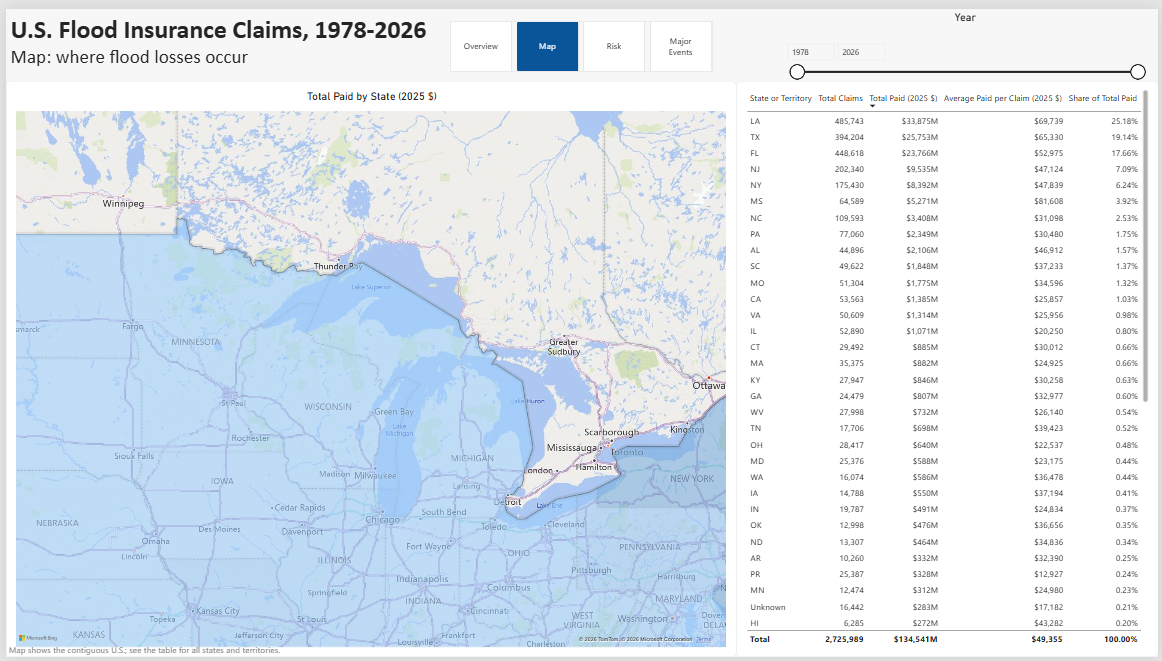

What the dashboard file says about the page in this screenshot:
{"tool":"powerbi","page":{"name":"Map","canvas":[1920,1080],"ordinal":1},"visuals":[{"type":"filledMap","title":"Total Paid by State (2025 $)","fields":{"Category":["v_claims.state"]},"box":[0,120,1217.5,960],"z":0},{"type":"tableEx","fields":{"Values":["v_claims.state","v_claims.Total Claims","v_claims.Total Paid (2025 $)","v_claims.Avg Paid per Claim (2025 $)","v_claims.Share of Total Paid"]},"box":[1218.3,120,703.3,960],"z":1000},{"type":"slicer","title":"Year","fields":{"Values":["Date.Year"]},"box":[1295,2.5,607.5,122.5],"z":2000},{"type":"textbox","box":[7.5,7.5,710,130],"z":3000},{"type":"textbox","box":[5,1057.5,472.5,22.5],"z":4000},{"type":"pageNavigator","box":[740,20,437.5,85],"z":5000}]}

Visuals, with their boxes in screenshot pixels (x1, y1, x2, y2), scaled from the page's 1920x1080 canvas onto the 1162x661 screenshot:
"Total Paid by State (2025 $)" filledMap: <bbox>0, 73, 737, 660</bbox>
tableEx - v_claims.state x v_claims.Total Claims: <bbox>737, 73, 1161, 660</bbox>
"Year" slicer: <bbox>784, 2, 1151, 77</bbox>
textbox: <bbox>5, 5, 434, 84</bbox>
textbox: <bbox>3, 647, 289, 660</bbox>
pageNavigator: <bbox>448, 12, 713, 64</bbox>
